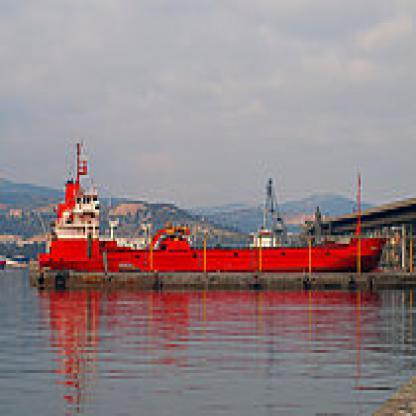Container Ship: (31, 139, 389, 289)
